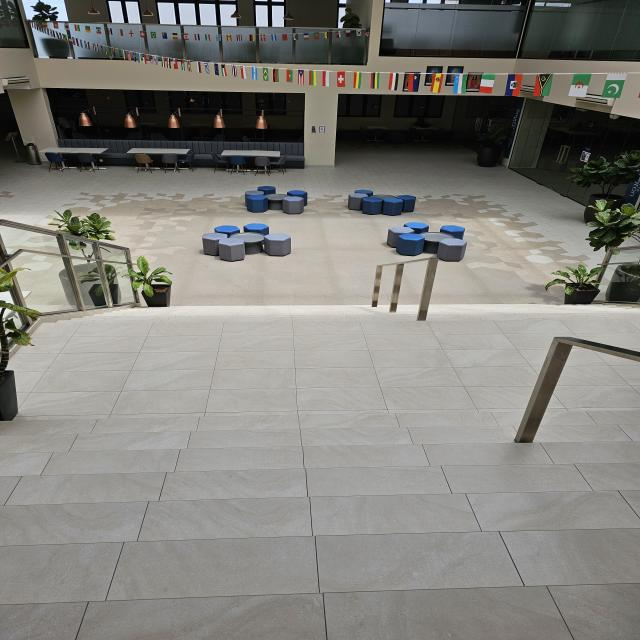footpath: (26, 322, 516, 637)
obstacle: (529, 325, 640, 446), (360, 256, 452, 320), (379, 211, 479, 265), (193, 220, 298, 262), (545, 263, 603, 310), (127, 260, 180, 310)
